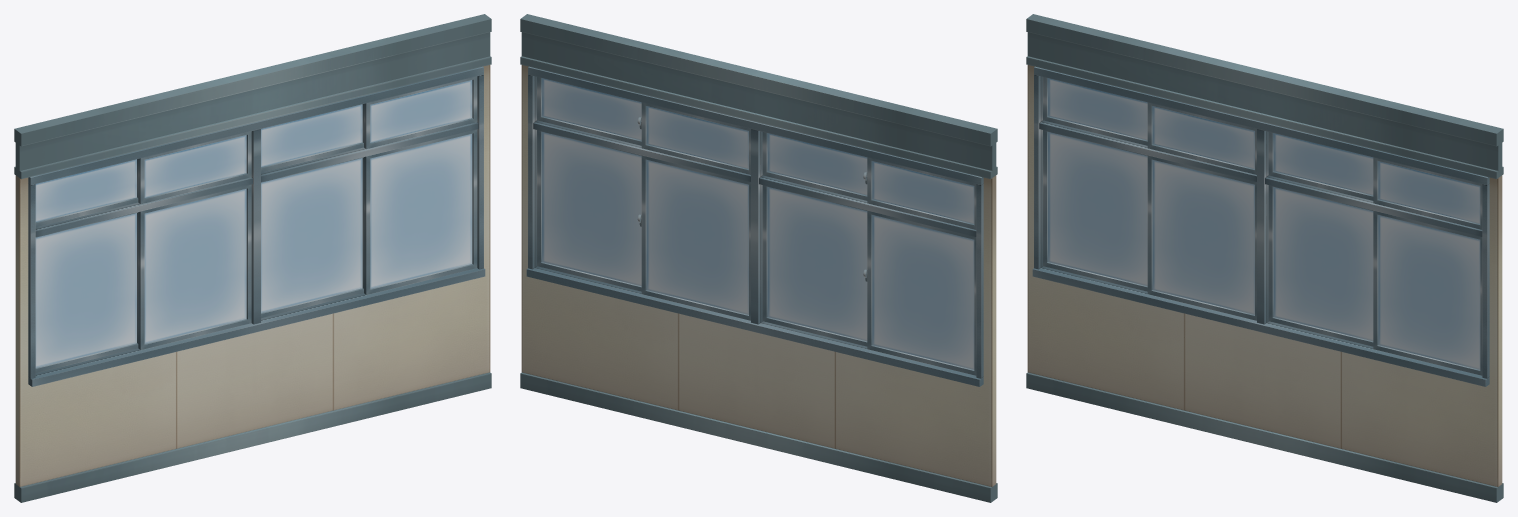
File: Window_01_01.fbx
3 views of the same model, side by side, from view 1: azimuth 30°, elevation 25°; view 2: azimuth 150°, elevation 25°; view 3: azimuth 330°, elevation 25° (orthographic).
Parts seen in each view (by area): view 1: wall01, glass02 (×8), window, window01_02, window01_04, window02_02, window02_04, window01_01, window01_03, window02_01, window02_03; view 2: wall01, glass01 (×8), window, window01_01, window01_03, window01_02, window01_04, window02_01, window02_03, window02_02, window02_04; view 3: wall01, glass02 (×8), window, window01_04, window01_02, window01_03, window01_01, window02_04, window02_02, window02_03, window02_01.
Part boxes in pixels (box(x1,y1,x2,y2)): wall01: box(14, 14, 491, 502); glass02 (×8): box(35, 80, 472, 367); window: box(28, 66, 485, 386); window01_02: box(138, 184, 251, 349); window01_04: box(364, 129, 477, 294); window02_02: box(138, 131, 251, 204); window02_04: box(364, 76, 477, 149); window01_01: box(35, 212, 138, 372); window01_03: box(261, 157, 363, 318); window02_01: box(35, 159, 138, 227); window02_03: box(261, 104, 363, 172); wall01: box(520, 14, 997, 502); glass01 (×8): box(542, 78, 974, 369); window: box(526, 66, 983, 386); window01_01: box(866, 210, 976, 375); window01_03: box(641, 155, 750, 320); window01_02: box(762, 185, 867, 346); window01_04: box(537, 130, 641, 291); window02_01: box(866, 157, 976, 229); window02_03: box(641, 102, 750, 174); window02_02: box(762, 132, 867, 200); window02_04: box(537, 77, 641, 145); wall01: box(1026, 14, 1503, 502); glass02 (×8): box(1048, 78, 1480, 369); window: box(1032, 66, 1489, 386); window01_04: box(1373, 210, 1482, 375); window01_02: box(1147, 155, 1256, 320); window01_03: box(1268, 185, 1373, 346); window01_01: box(1043, 130, 1147, 291); window02_04: box(1373, 157, 1482, 229); window02_02: box(1147, 102, 1256, 174); window02_03: box(1268, 132, 1373, 200); window02_01: box(1043, 77, 1147, 145).
Size of the model in its own units: 400 by 300 by 17.
